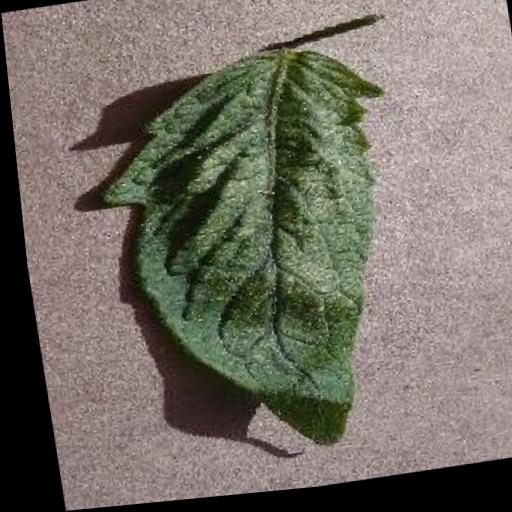Spider Mites: (82, 45, 425, 478)
